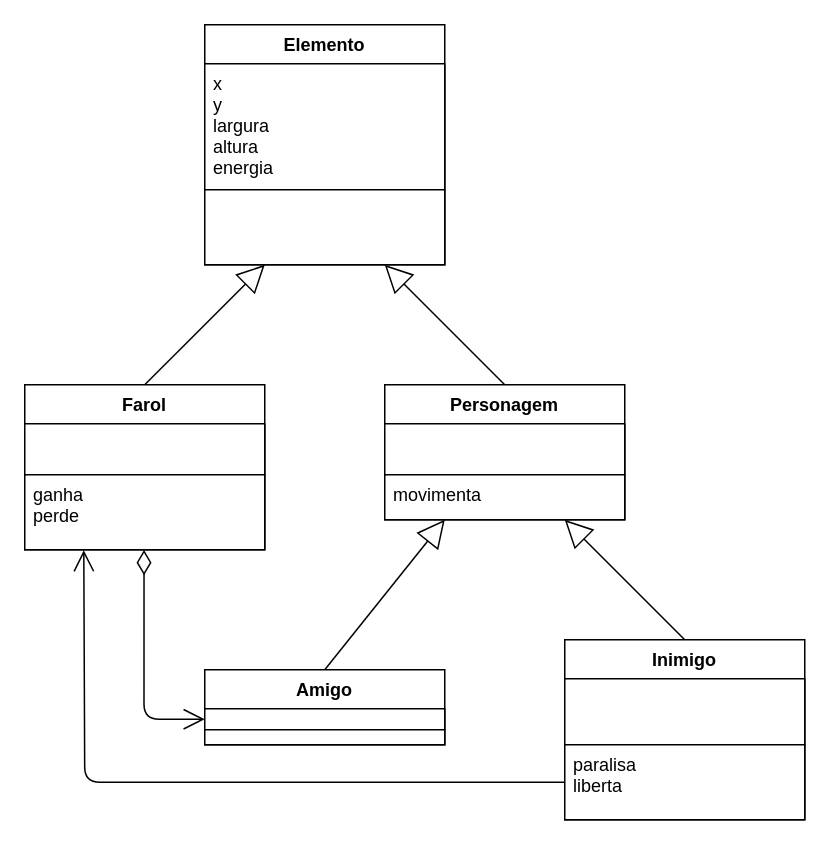
Some shapes in this 830 by 845 pixel diagram are drawn without their labels. Each missing label, with the centre of its shape:
"amigos" belongs at point 144,448.
"ataque" belongs at point 504,448.
"danifica conserta" belongs at point 324,226.
"origem movel" belongs at point 684,711.
